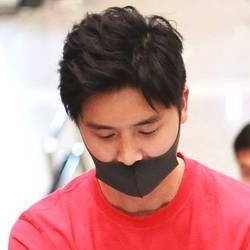mask: (93, 138, 183, 198)
